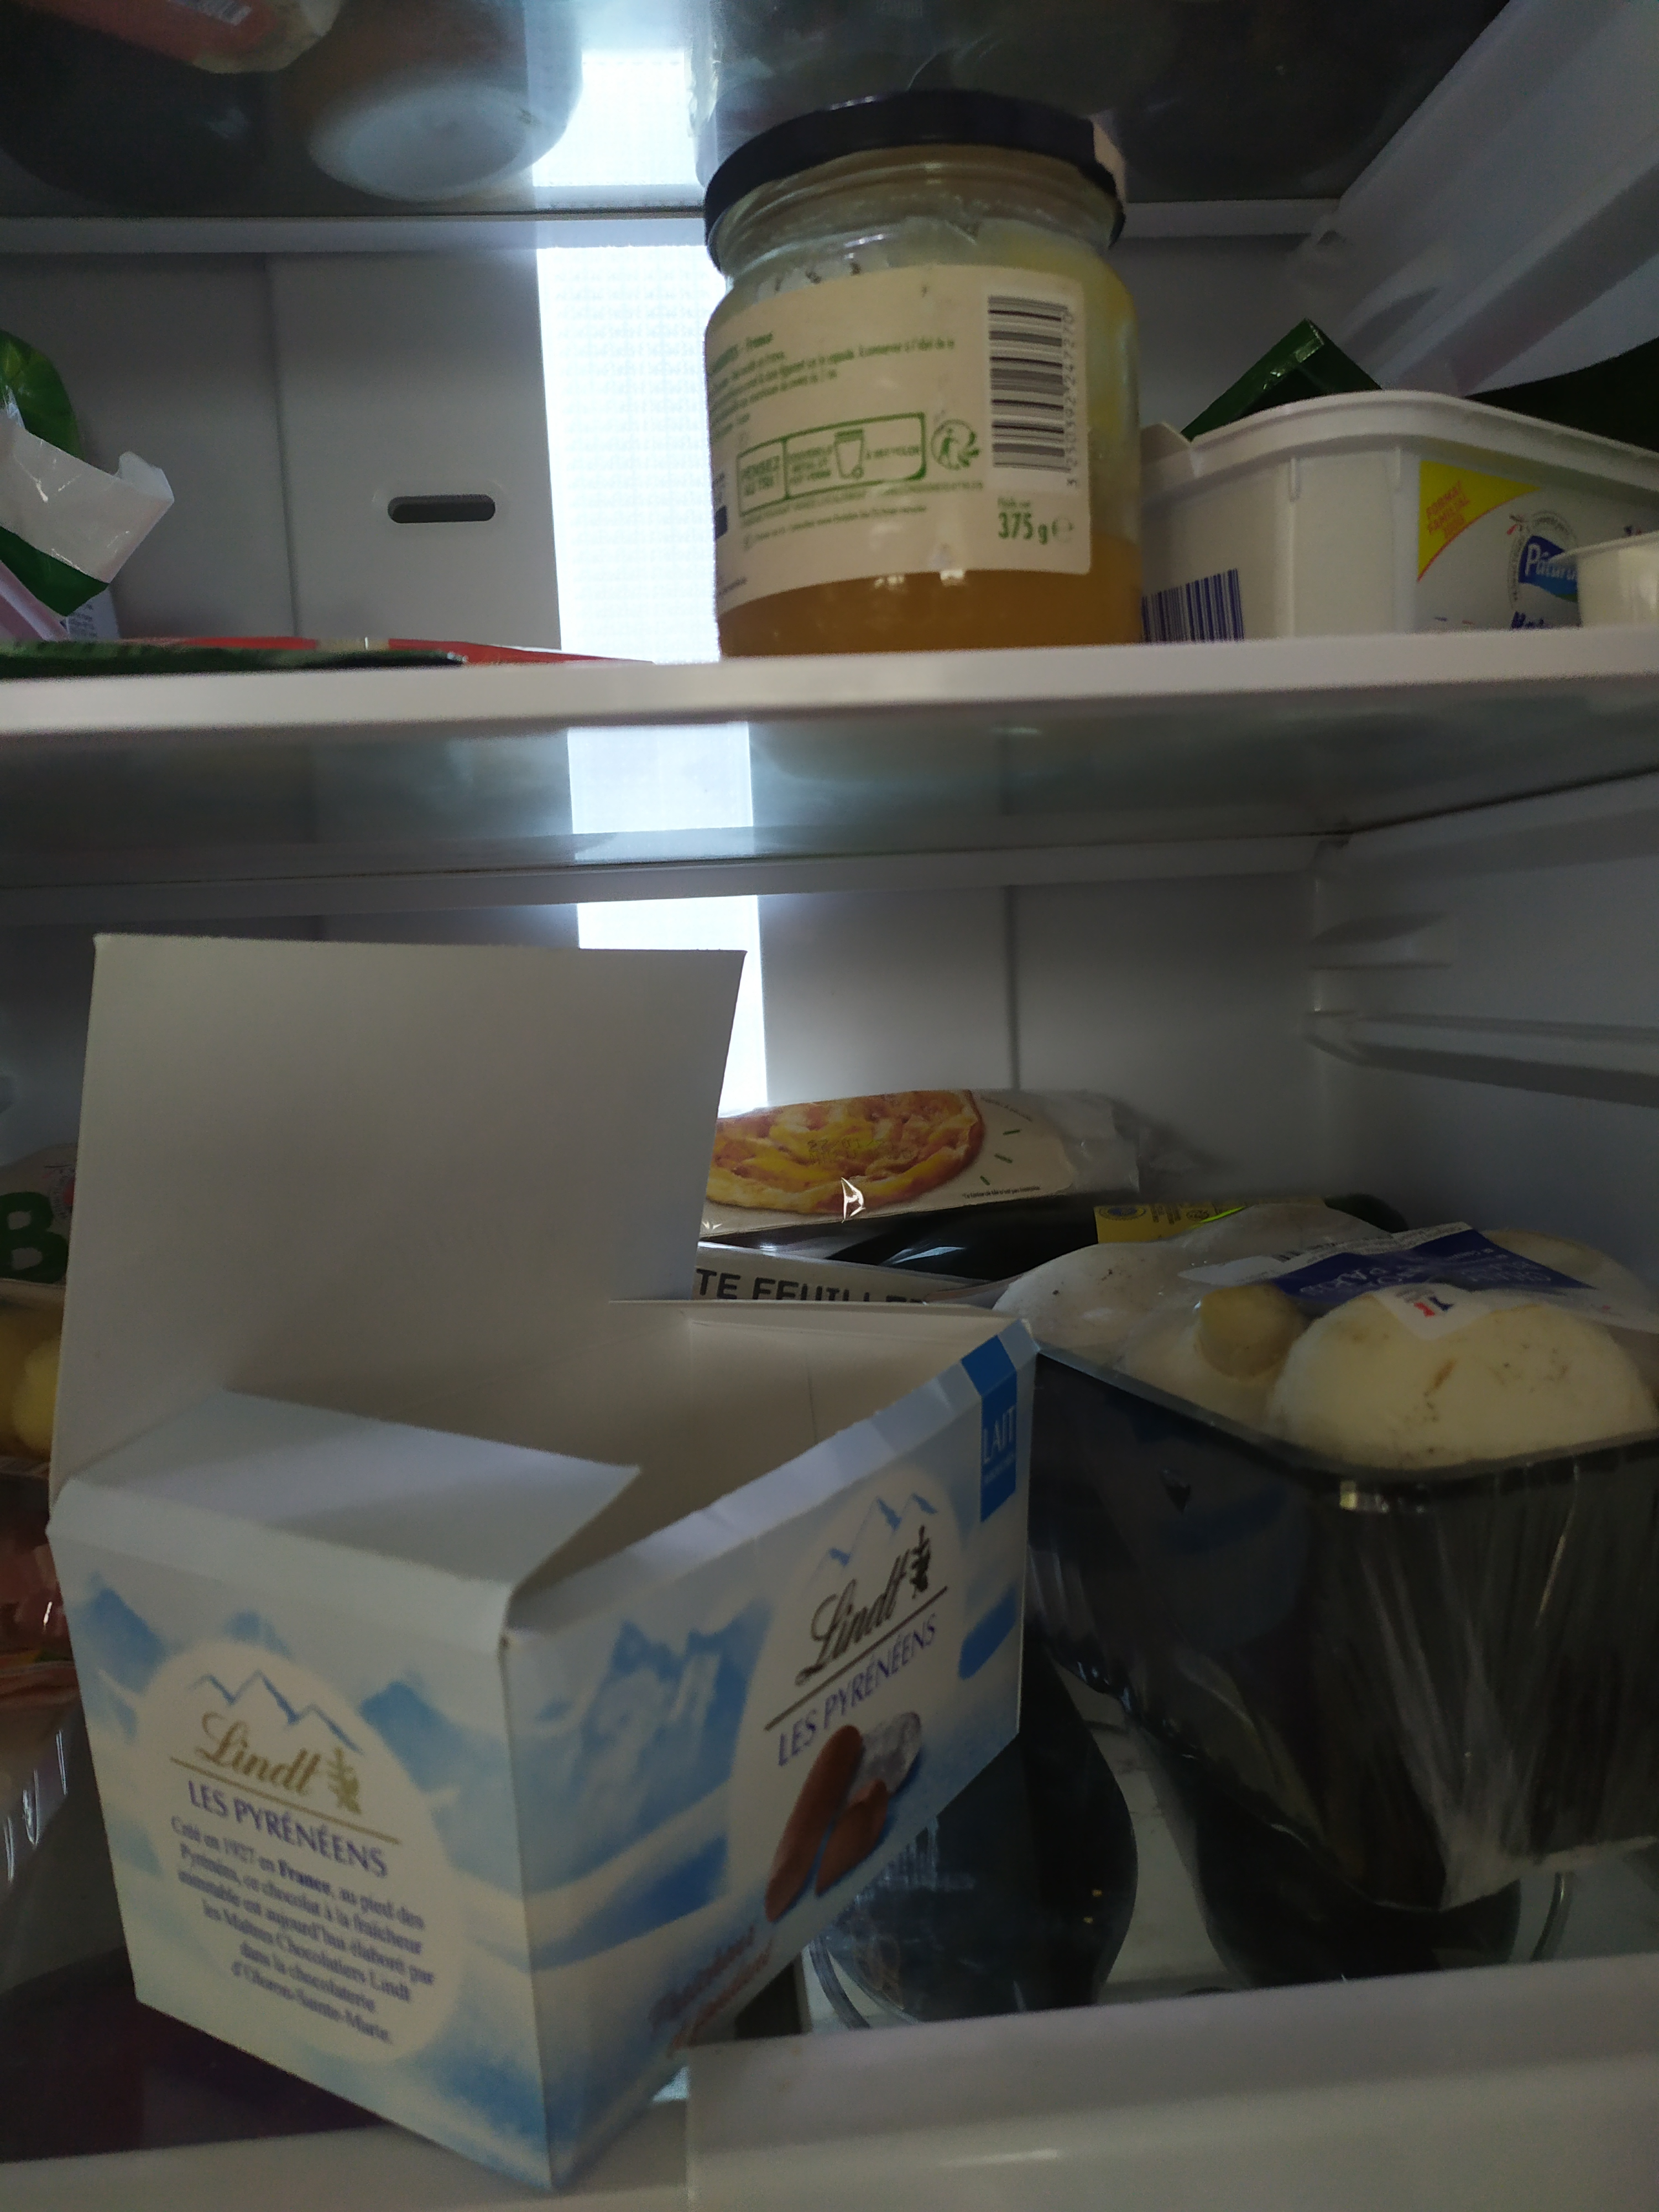bottle: (798, 1184, 1415, 1277)
mushroom: (999, 1205, 1659, 1881)
